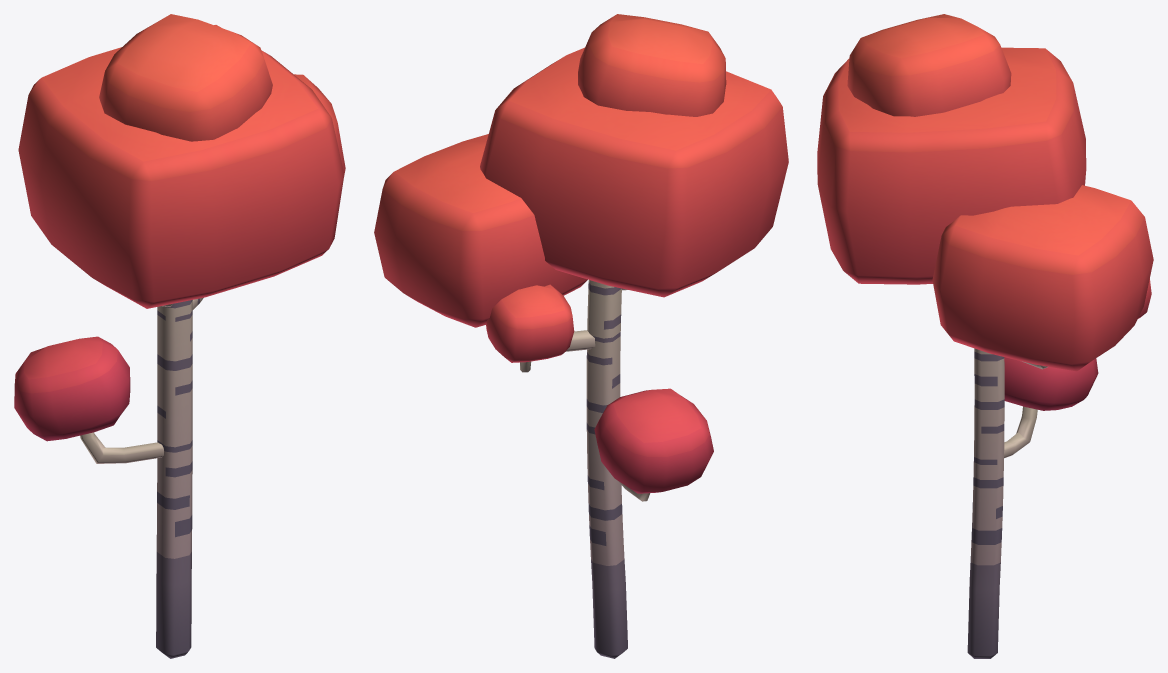
File: birch_red.glb
3 views of the same model, side by side, from view 1: azimuth 30°, elevation 25°; view 2: azimuth 150°, elevation 25°; view 3: azimuth 270°, elevation 25° (orthographic). The views are drawn at different scales.
Visible parts, largest first — view 1: birch_tree_SC_free_birch_red_mat_0; view 2: birch_tree_SC_free_birch_red_mat_0; view 3: birch_tree_SC_free_birch_red_mat_0.
Boxes of the visible parts, left/top/right/bottom form: birch_tree_SC_free_birch_red_mat_0: left=14, top=14, right=345, bottom=658; birch_tree_SC_free_birch_red_mat_0: left=374, top=14, right=788, bottom=658; birch_tree_SC_free_birch_red_mat_0: left=817, top=14, right=1153, bottom=658.
Bounding box in the file's own units: 26.45 × 49.67 × 24.3.
1 material, 1 textured.
